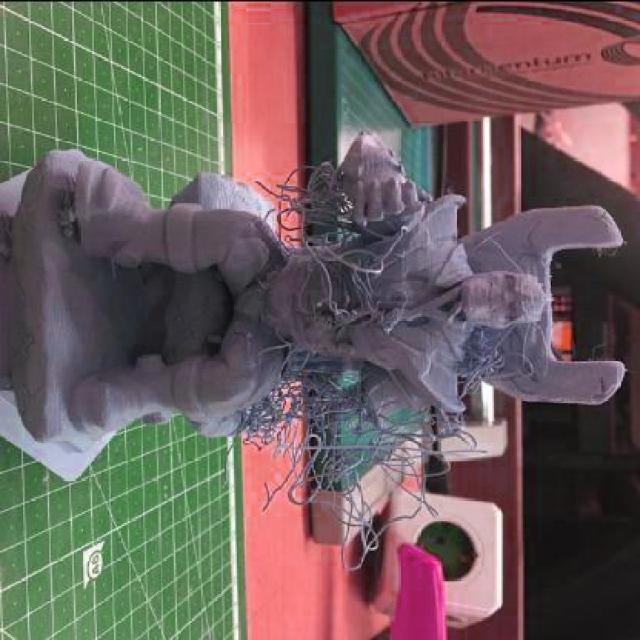spaghetti: (256, 153, 555, 381), (240, 377, 494, 574)
